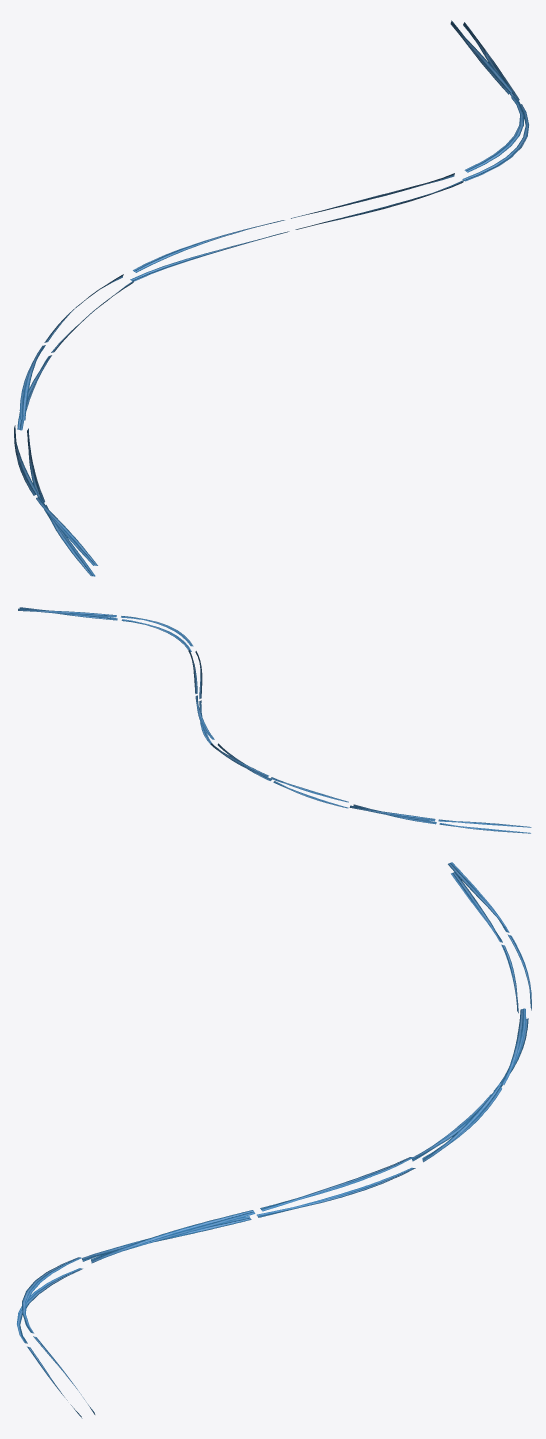
The model's file is Wire_01.FBX.
3 renders of one model, top to bottom at view 1: azimuth 90°, elevation 25°; view 2: azimuth 150°, elevation 25°; view 3: azimuth 270°, elevation 25°, orthographic. The views are drawn at different scales.
Parts seen in each view (by area): view 1: Wire_01; view 2: Wire_01; view 3: Wire_01.
Boxes of the visible parts, box(x1,y1,x2,y2) form: Wire_01: box(14, 20, 528, 576); Wire_01: box(18, 607, 531, 833); Wire_01: box(17, 862, 531, 1418).
Size of the model in its own units: 27.24 by 0.2901 by 10.78.
